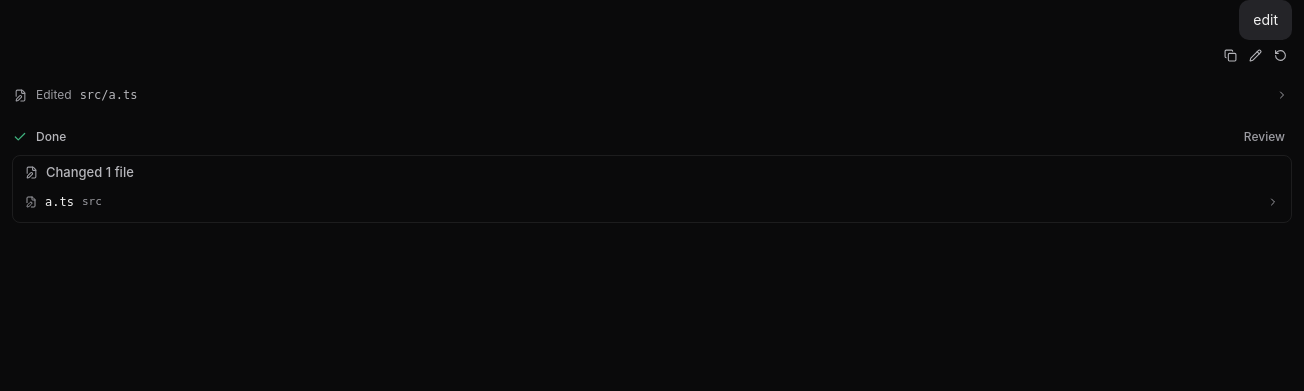
Test: timeline edit and thought previews › shows the completed edit arguments as a diff and opens Changes
Later steps or results of the test are not shown.
Click the button "Edited src/a.ts": point(54, 95) [36, 81, 1292, 109]
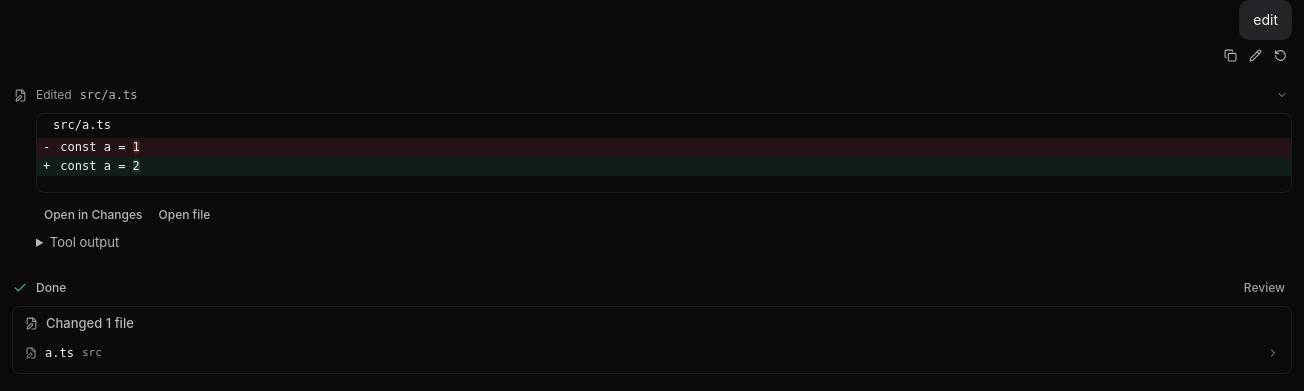
Expected: the element named "Edit preview" shows "- const a = 1", [36, 113, 1292, 193]
Expected: the element named "Edit preview" shows "+ const a = 2", [36, 113, 1292, 193]
